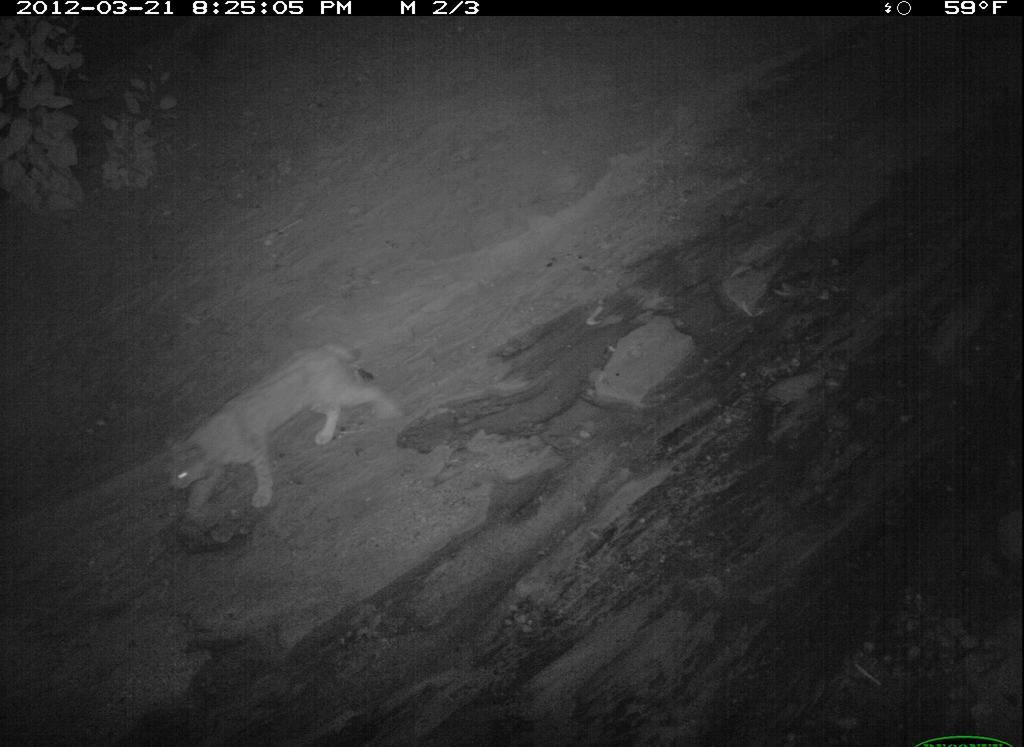bobcat: (325, 668, 816, 747)
